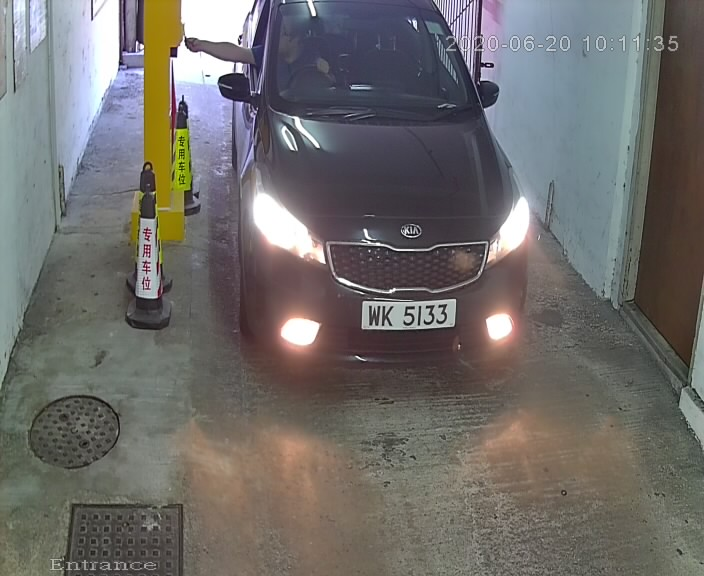privatecar: (193, 3, 554, 418)
